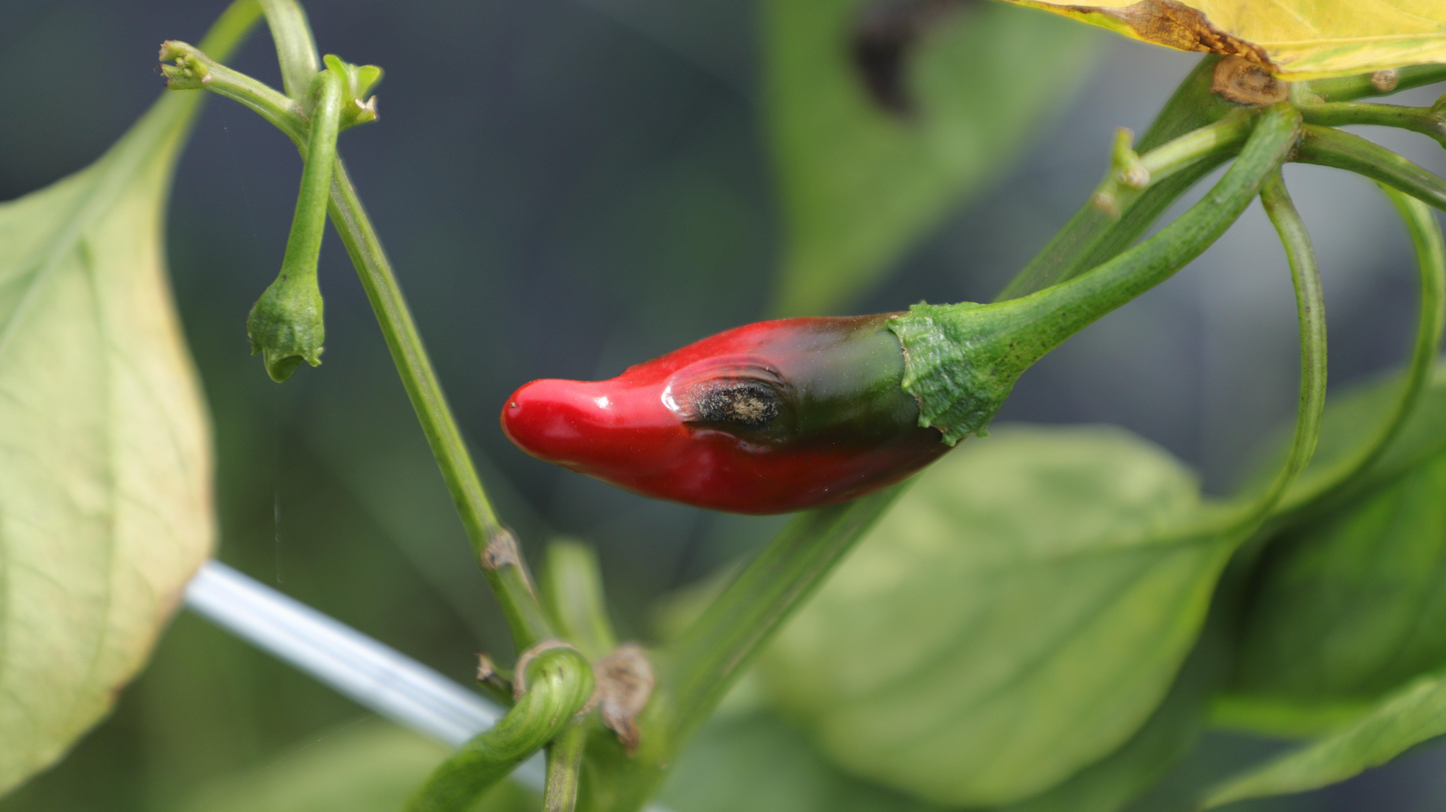Busuk Buah Antraknosa: (494, 293, 1027, 522)
